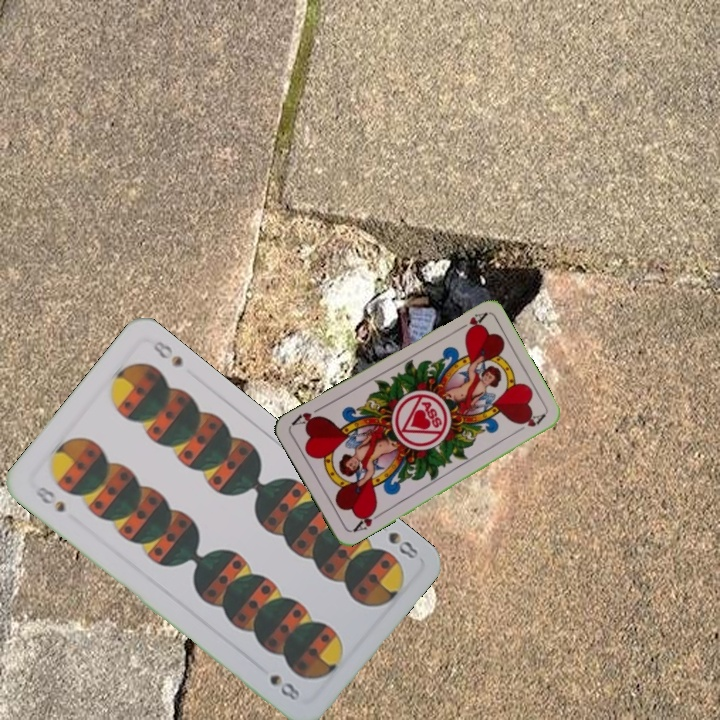HA: (348, 504, 385, 535), (451, 309, 489, 337)
S8: (372, 517, 421, 562), (31, 482, 68, 515)
